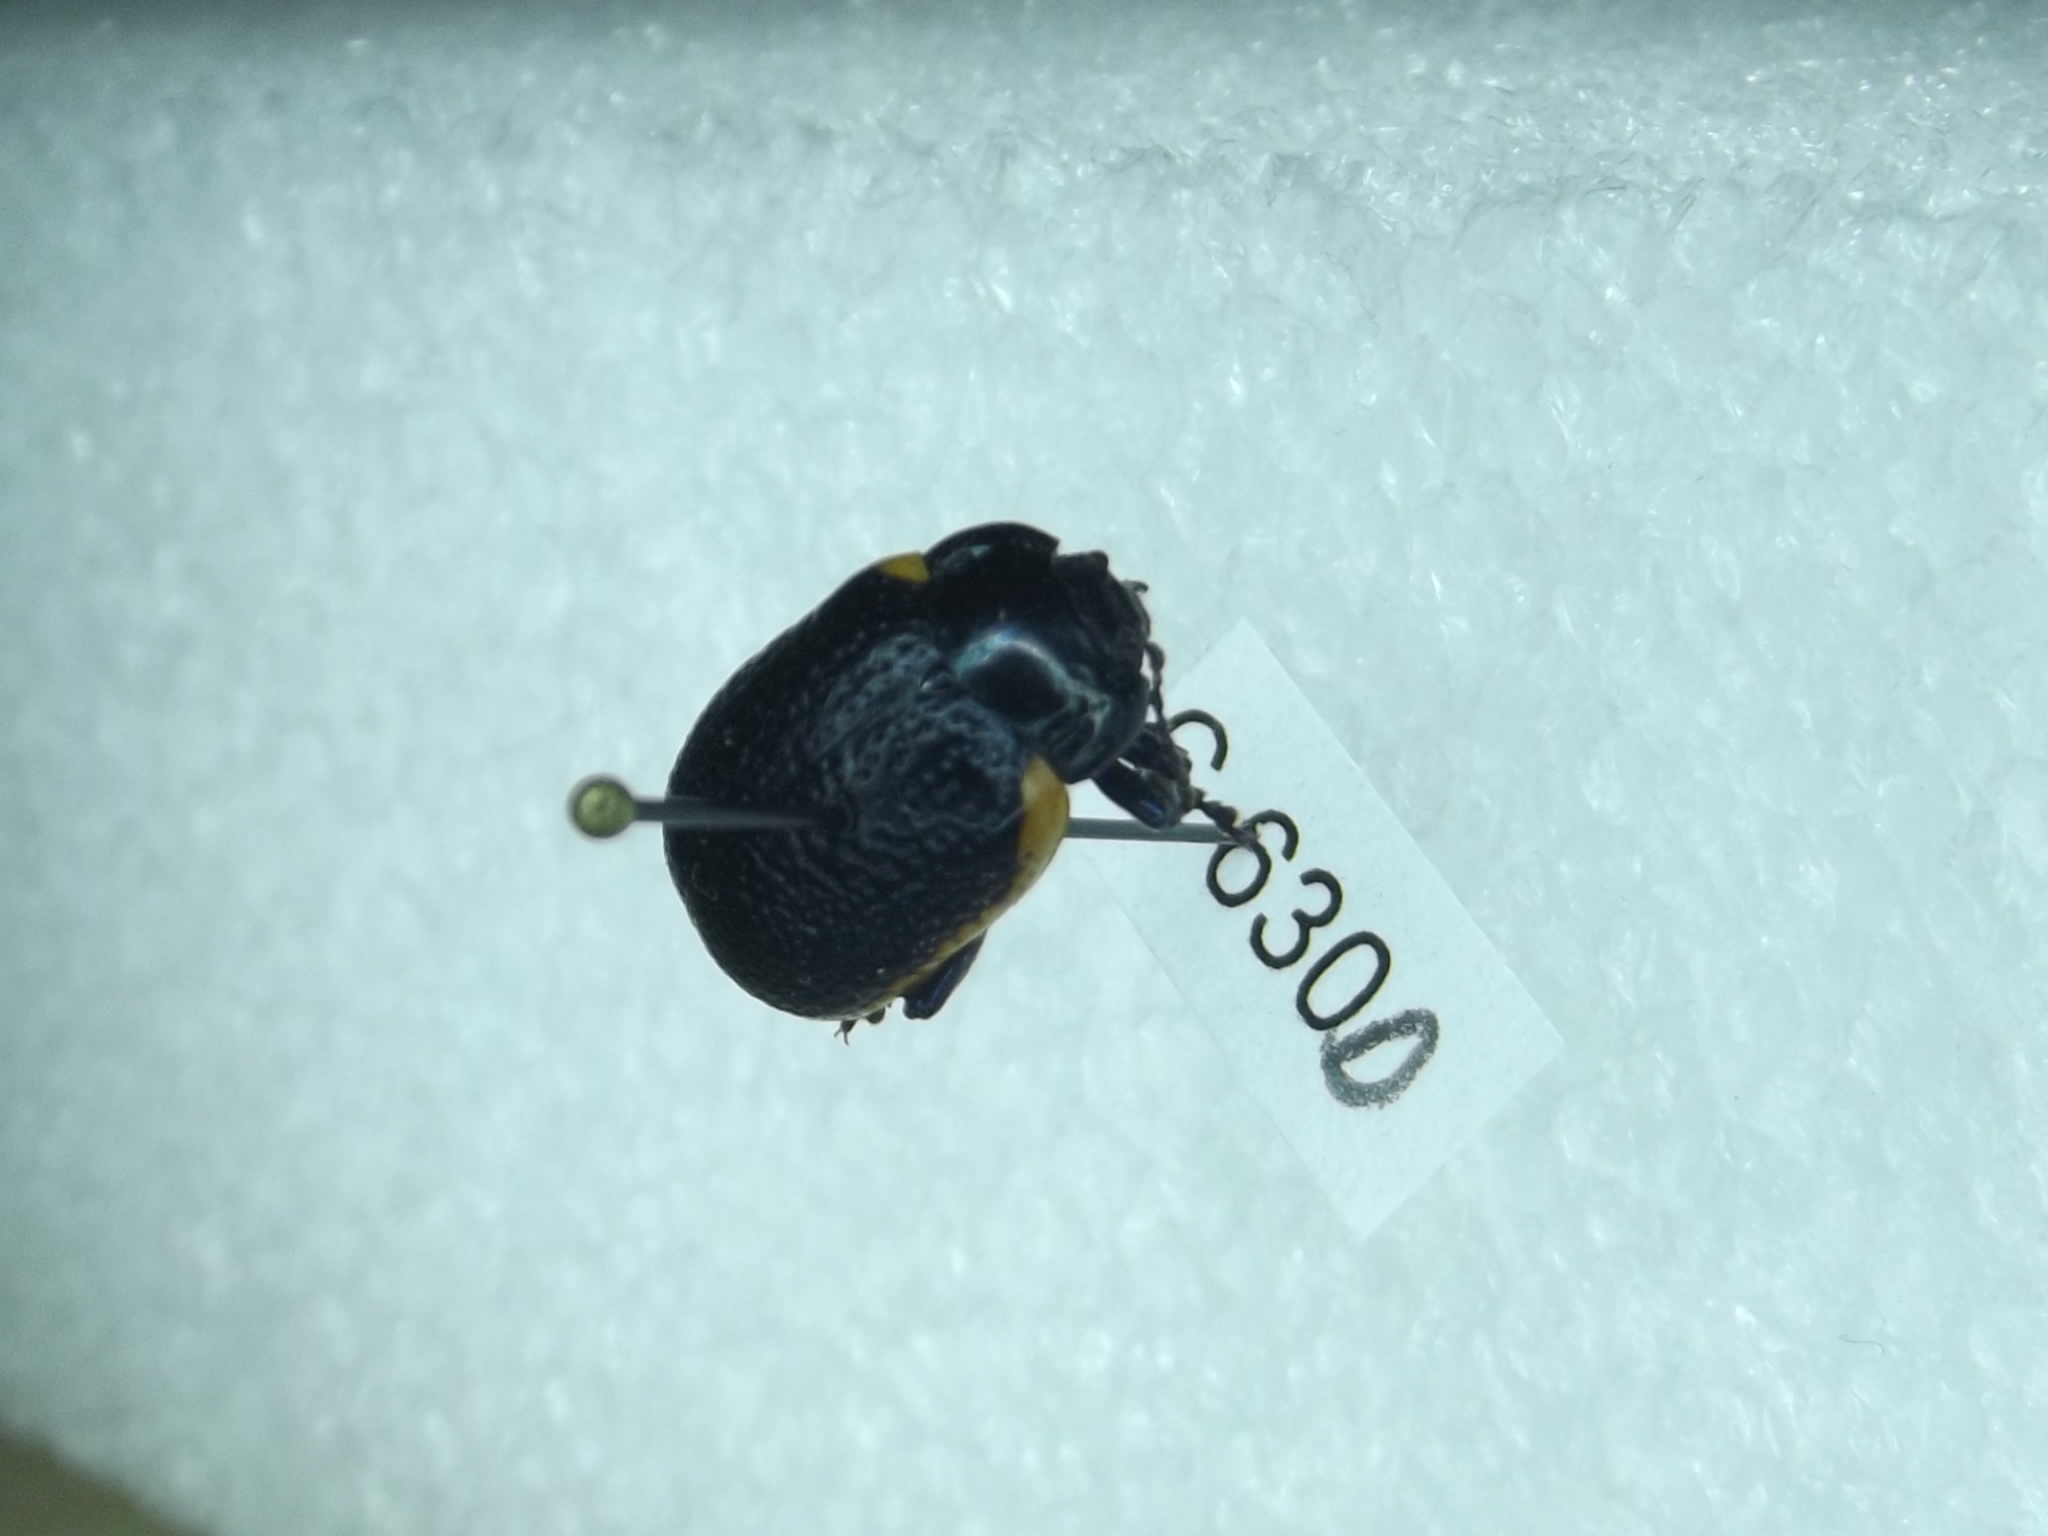Chrysolina_gypsophila: (663, 502, 1247, 1055)
